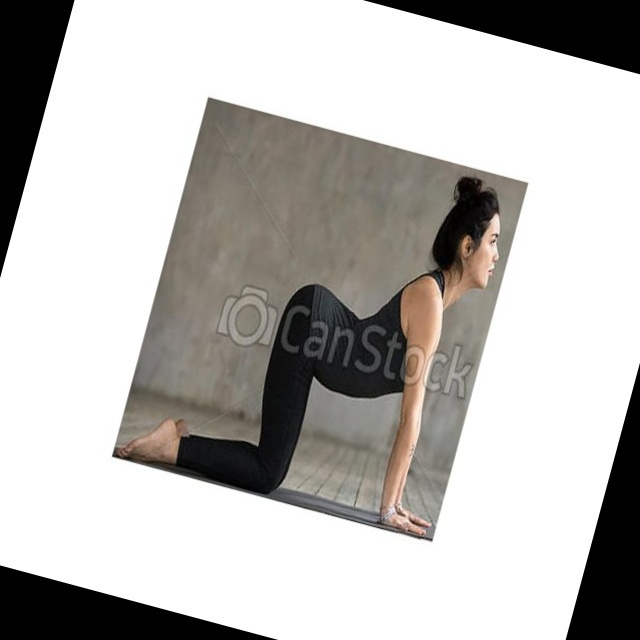Cow_Pose: (116, 187, 502, 537)
